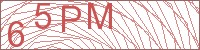5: (34, 2, 53, 31)
6: (7, 20, 25, 48)
M: (87, 1, 113, 31)
P: (61, 5, 82, 34)
